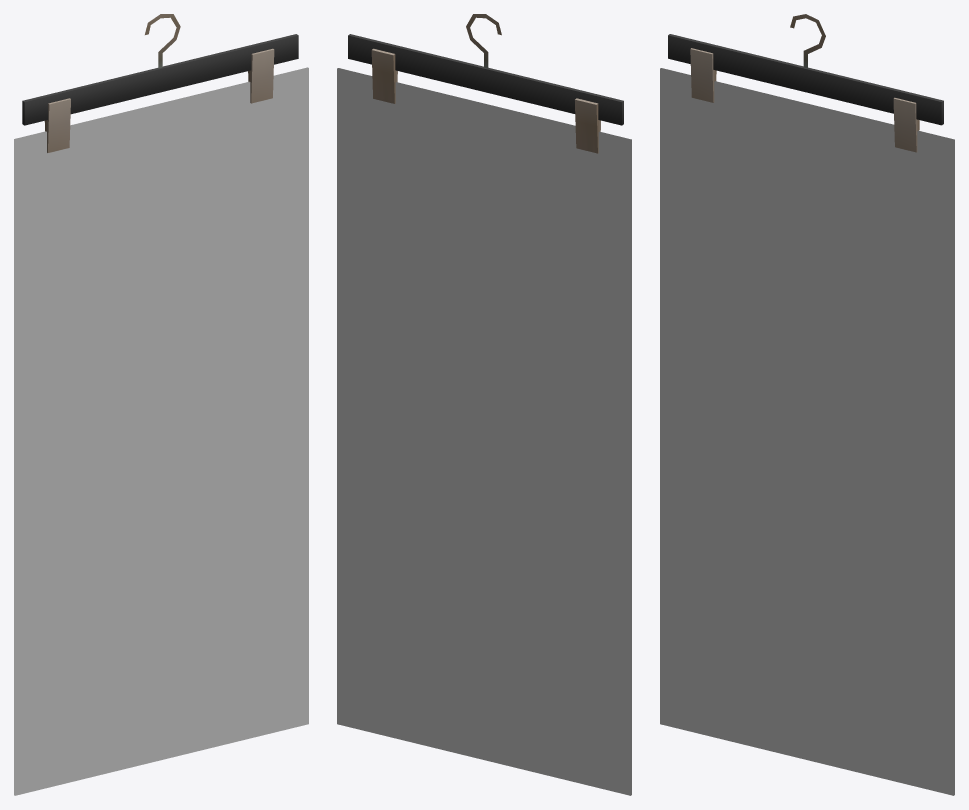
File: Hang_Towel_07.FBX
3 renders of one model, left to right at view 1: azimuth 30°, elevation 25°; view 2: azimuth 150°, elevation 25°; view 3: azimuth 330°, elevation 25°, orthographic.
Parts seen in each view (by area): view 1: Hang_Towel_07; view 2: Hang_Towel_07; view 3: Hang_Towel_07.
Part boxes in pixels (left/top/right/bottom): Hang_Towel_07: left=14, top=14, right=308, bottom=795; Hang_Towel_07: left=337, top=14, right=631, bottom=795; Hang_Towel_07: left=660, top=14, right=954, bottom=795.
Size of the model in its own units: 0.4782 by 0.0145 by 1.16.
